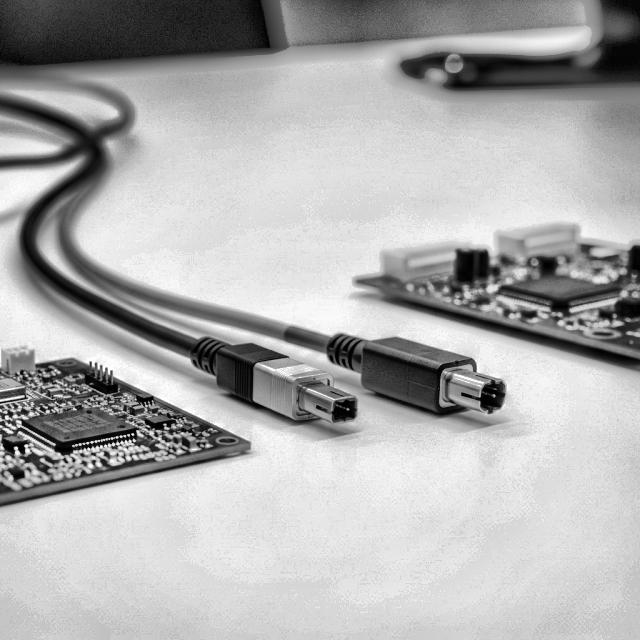Cable: (0, 74, 504, 428)
PCB: (352, 198, 640, 373), (0, 338, 257, 504)
